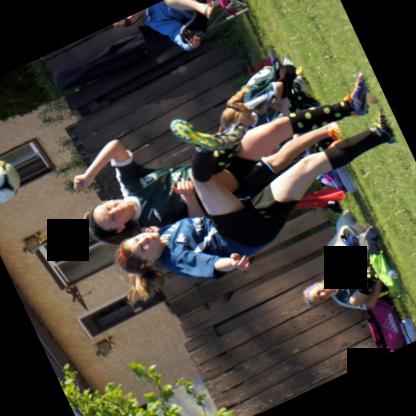backpack: (362, 295, 407, 356)
handbag: (362, 295, 406, 355), (401, 316, 416, 345)
